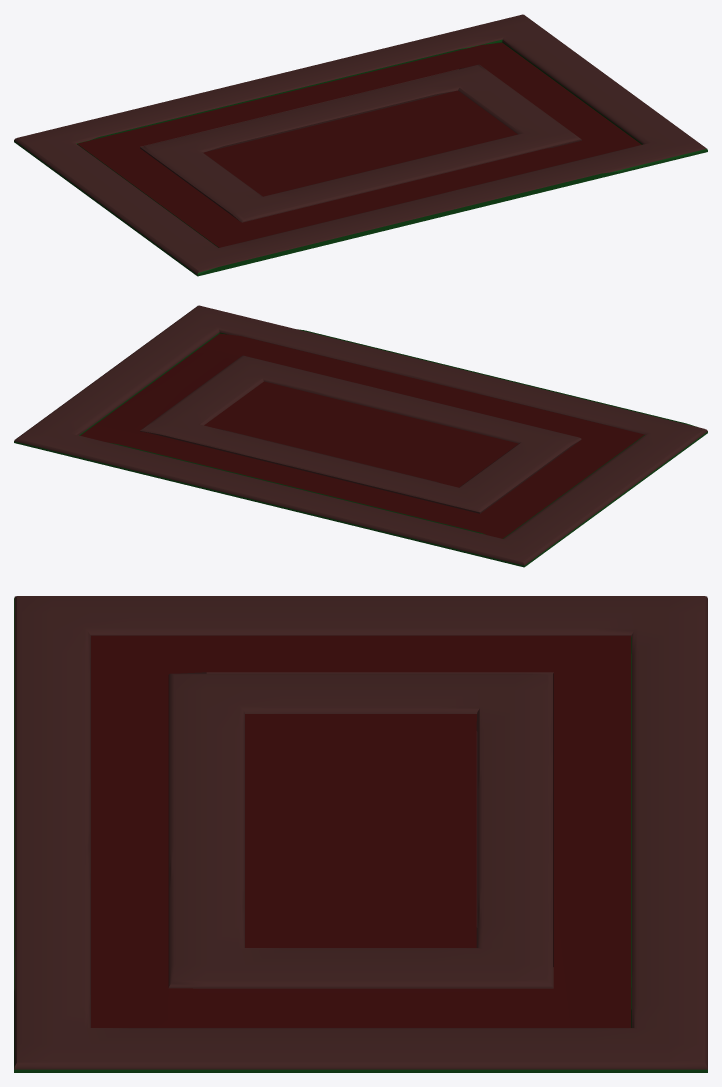
The model's file is tapete3.fbx.
The picture shows the model from 3 angles, top to bottom: view 1: azimuth 30°, elevation 25°; view 2: azimuth 150°, elevation 25°; view 3: azimuth 270°, elevation 25°; orthographic projection. The views are drawn at different scales.
Parts seen in each view (by area): view 1: Plane; view 2: Plane; view 3: Plane.
Boxes of the visible parts, bbox=[...] form: Plane: bbox=[14, 14, 707, 276]; Plane: bbox=[14, 305, 707, 567]; Plane: bbox=[14, 596, 707, 1072].
Size of the model in its own units: 321 by 3.16 by 200.
